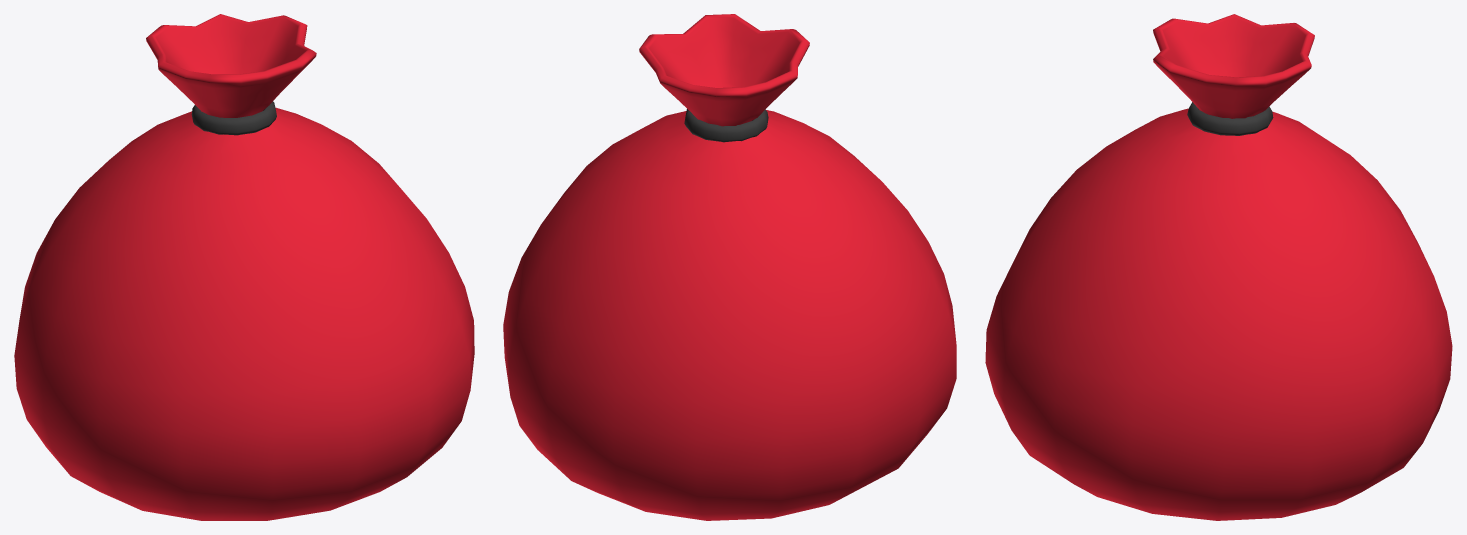
The model's file is bag.glb.
3 renders of one model, left to right at view 1: azimuth 30°, elevation 25°; view 2: azimuth 150°, elevation 25°; view 3: azimuth 270°, elevation 25°, orthographic.
Visible parts, largest first — view 1: Cylinder.073; view 2: Cylinder.073; view 3: Cylinder.073.
Boxes of the visible parts, x1,y1,x2,y2 form: Cylinder.073: [14, 14, 474, 520]; Cylinder.073: [503, 14, 956, 520]; Cylinder.073: [985, 14, 1452, 520].
Size of the model in its own units: 1.92 by 2 by 1.97.
